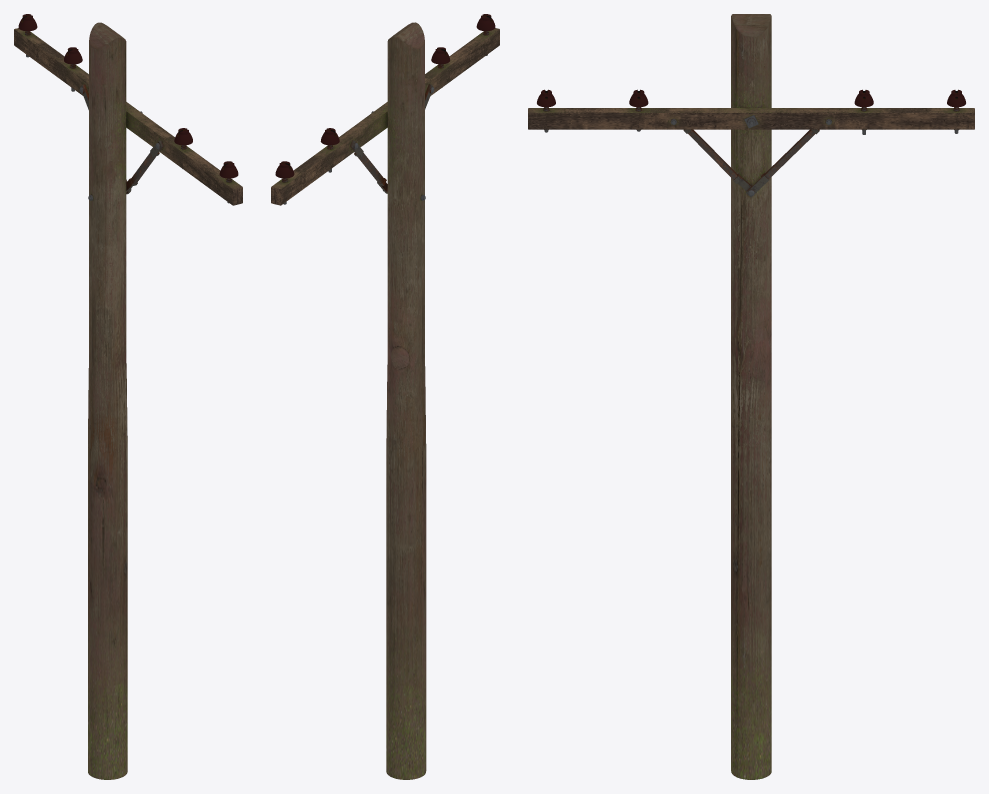
File: electricity_pole.runtime.glb
The picture shows the model from 3 angles, left to right: view 1: azimuth 30°, elevation 25°; view 2: azimuth 150°, elevation 25°; view 3: azimuth 270°, elevation 25°; orthographic projection.
Parts seen in each view (by area): view 1: Cylinder_Material_0, Cube_Material001_0; view 2: Cylinder_Material_0, Cube_Material001_0; view 3: Cylinder_Material_0, Cube_Material001_0, Cube002_Material003_0.
Boxes of the visible parts, left/top/right/bottom form: Cylinder_Material_0: left=88, top=22, right=127, bottom=779; Cube_Material001_0: left=14, top=28, right=242, bottom=205; Cylinder_Material_0: left=386, top=22, right=426, bottom=779; Cube_Material001_0: left=271, top=28, right=499, bottom=205; Cylinder_Material_0: left=731, top=14, right=771, bottom=779; Cube_Material001_0: left=528, top=108, right=974, bottom=129; Cube002_Material003_0: left=688, top=129, right=815, bottom=179.
Bounding box in the file's own units: 1.34 × 18 × 9.63.
6 materials, 6 textured.
